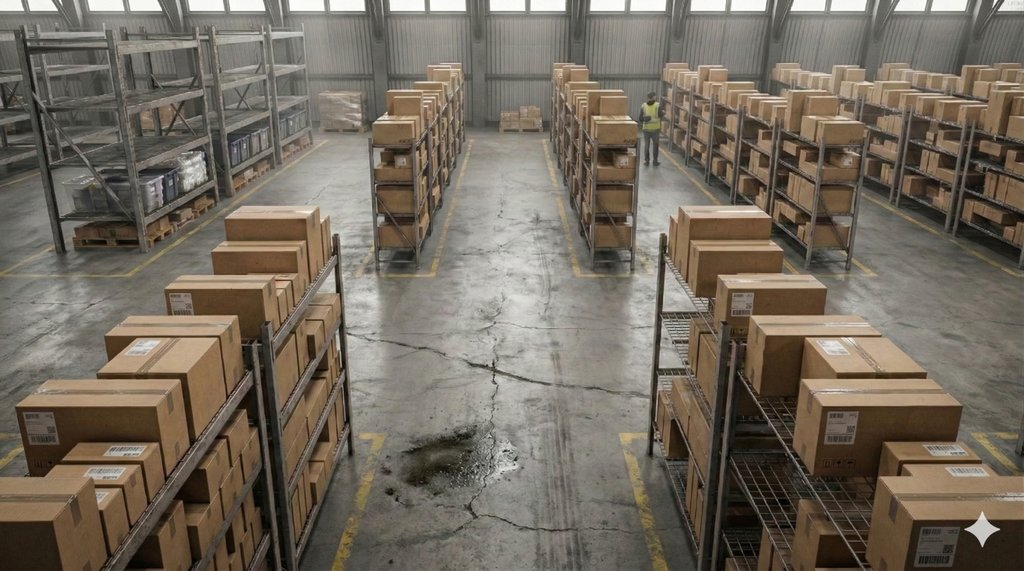empty_shelf: (28, 8, 205, 150), (214, 7, 307, 109)
person: (629, 79, 688, 170)
safety_vest: (641, 97, 667, 140)
spill: (382, 384, 540, 517)
